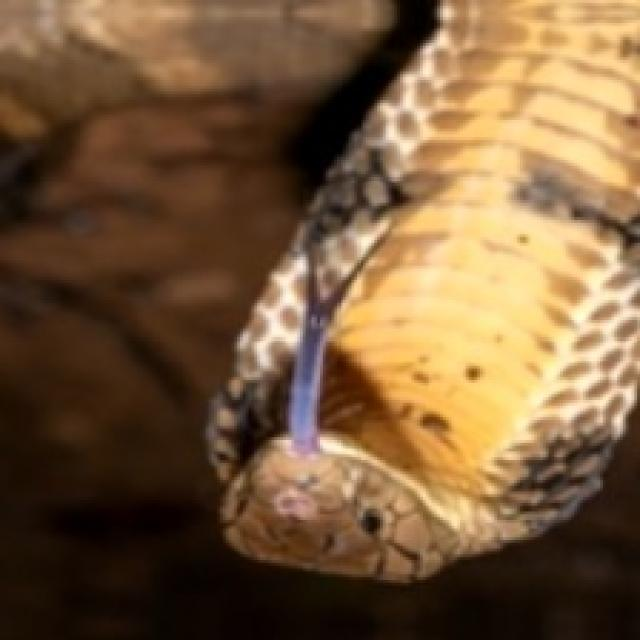king cobra: (209, 0, 637, 577), (283, 243, 343, 457)
